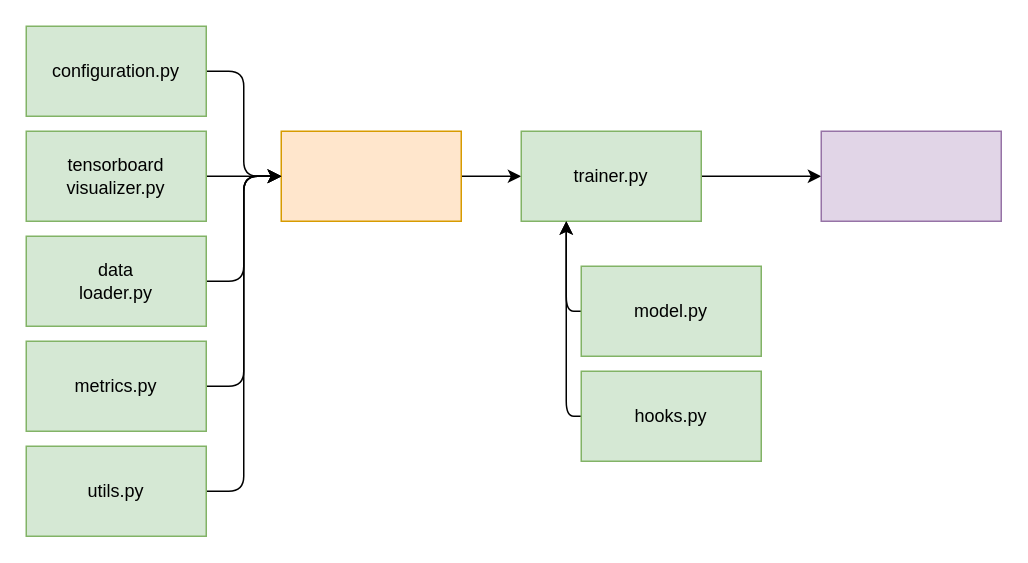
Some shapes in this 1028 by 563 pixel diagram are drawn without their labels. Each missing label, with the centre of its shape:
"main.ipynb" goes at point (370, 175).
"trained model" goes at point (910, 175).
